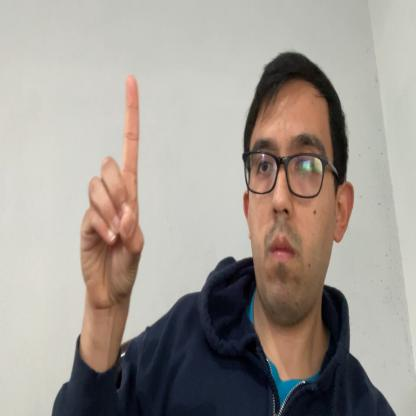D: (80, 76, 146, 321)
